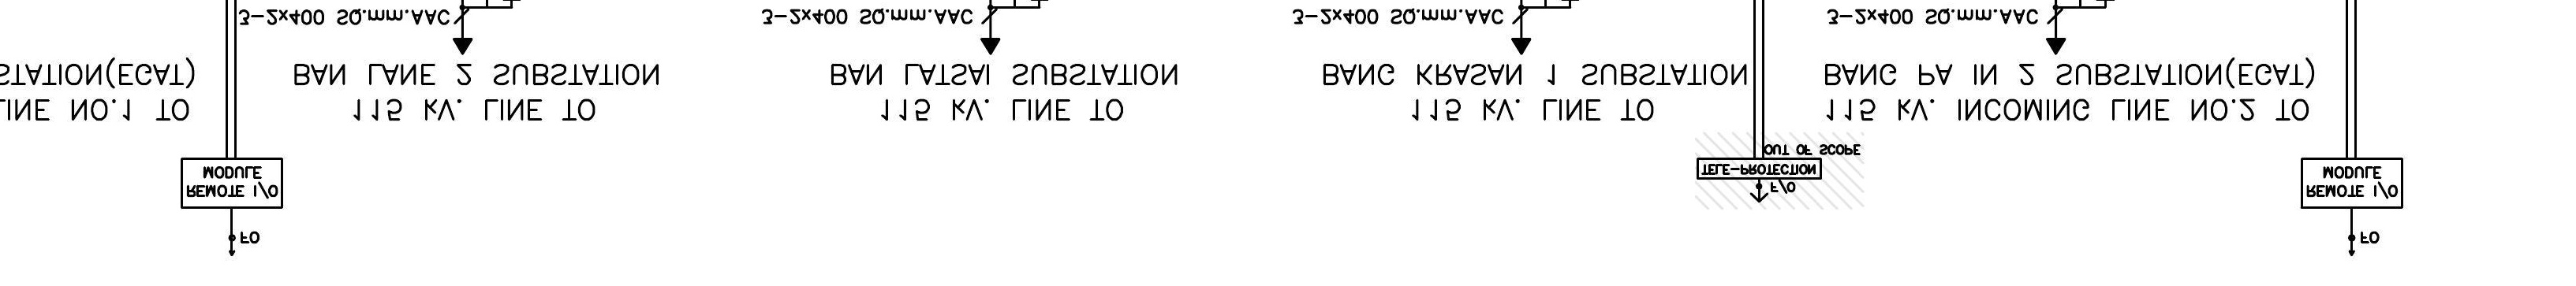remote_io_module: (2300, 158, 2403, 209), (181, 158, 283, 209)
tele_protection: (1695, 156, 1822, 181)
